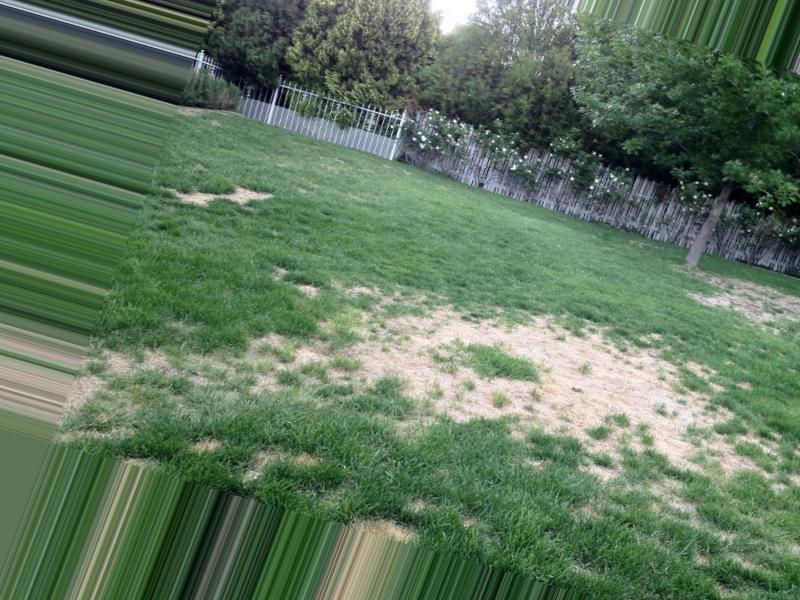patch: (117, 340, 342, 413), (491, 327, 657, 405), (371, 318, 474, 401), (719, 276, 787, 329), (626, 416, 699, 463), (179, 179, 265, 206)
